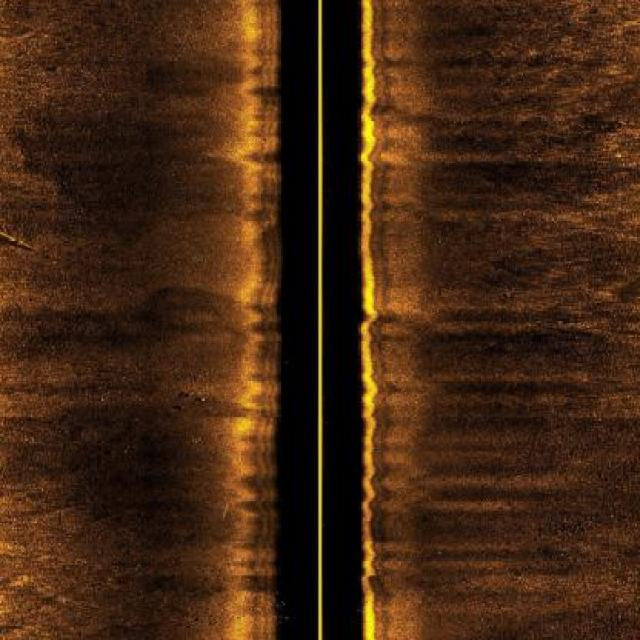other: (1, 229, 39, 257)
